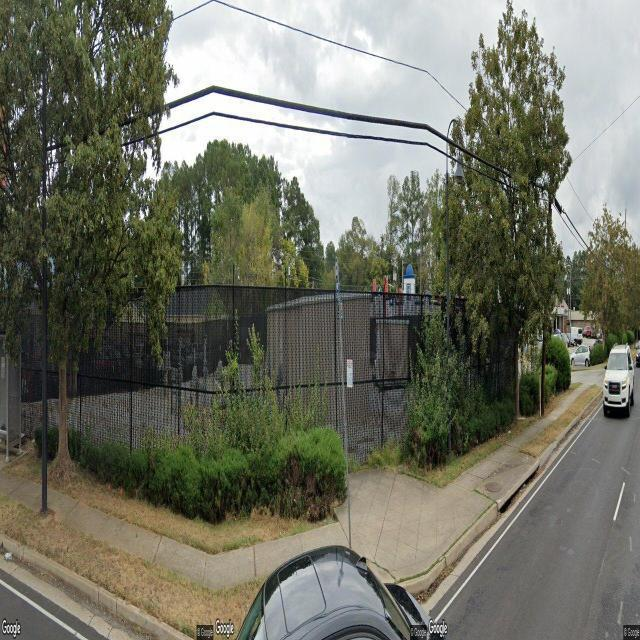seating: (0, 425, 7, 445)
shelter: (0, 325, 23, 466)
